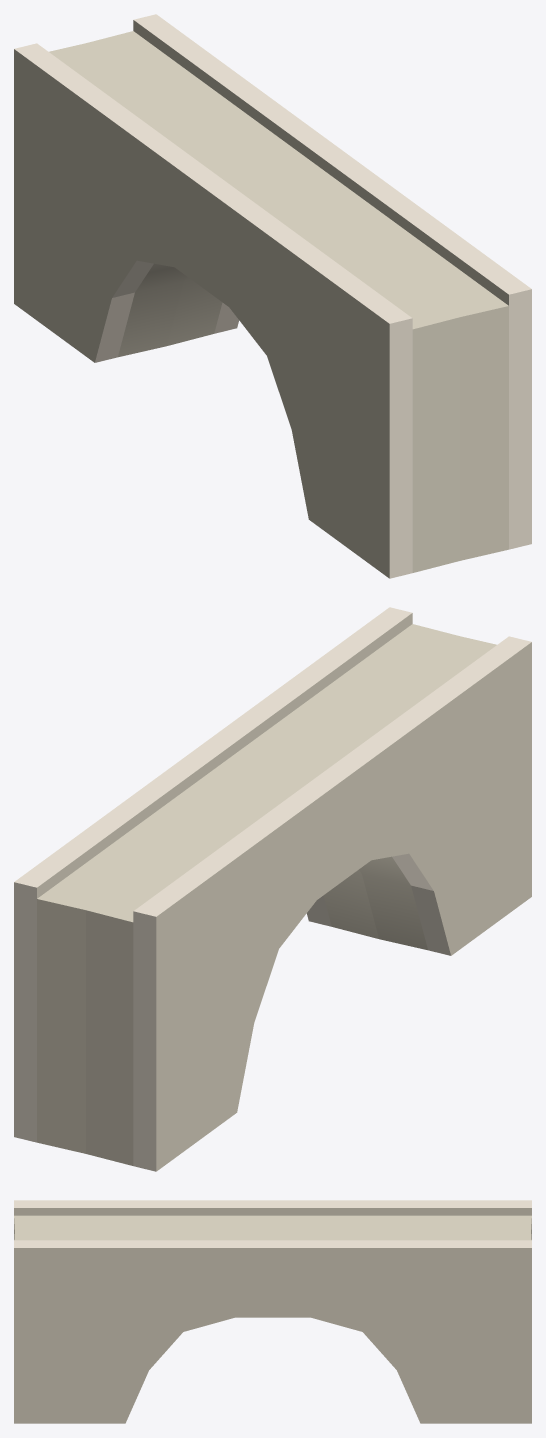
File: Bridge1.fbx
3 renders of one model, top to bottom at view 1: azimuth 30°, elevation 25°; view 2: azimuth 150°, elevation 25°; view 3: azimuth 270°, elevation 25°, orthographic. The views are drawn at different scales.
Visible parts, largest first — view 1: Bridge1; view 2: Bridge1; view 3: Bridge1.
Boxes of the visible parts, x1,y1,x2,y2 form: Bridge1: (14, 14, 531, 578); Bridge1: (14, 607, 531, 1171); Bridge1: (14, 1200, 531, 1423).
Size of the model in its own units: 64.3 by 110 by 294.
